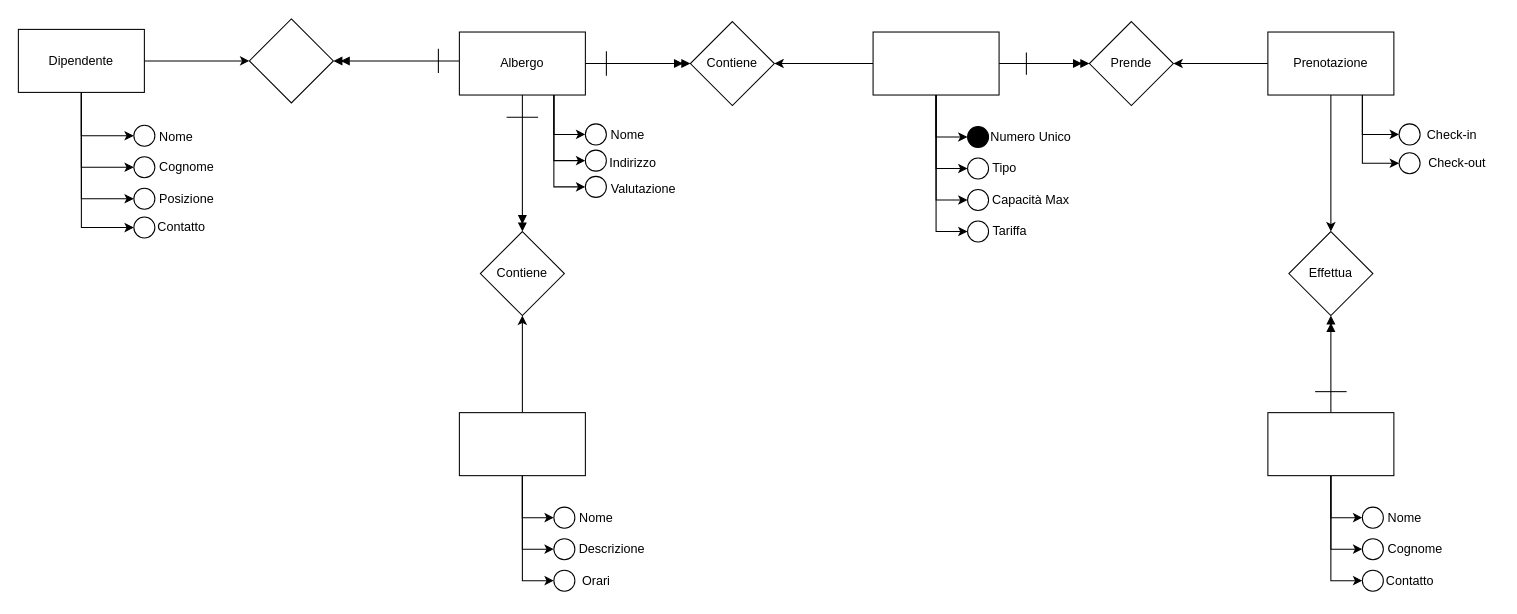
The diagram is 1517 pixels wide and 614 high, and some of its shapes have lost their labels. The centre of each missing label's shape, as x and y in pixels:
"Camera" belongs at pixel 935 63.
"Cliente" belongs at pixel 1330 444.
"Facility" belongs at pixel 521 444.
"Impiega" belongs at pixel 290 60.
